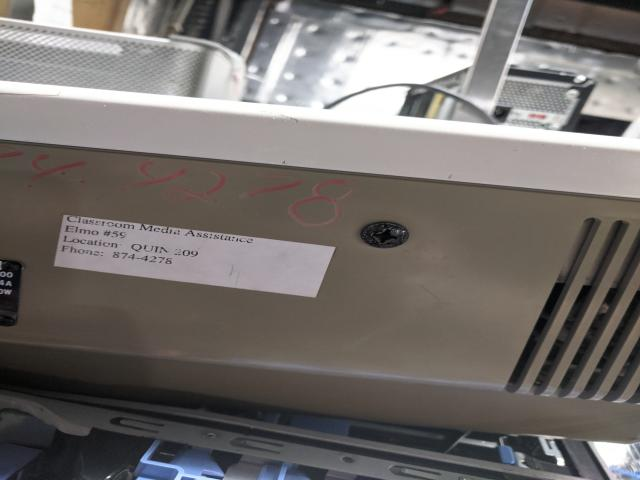CRS: (360, 221, 407, 250)
